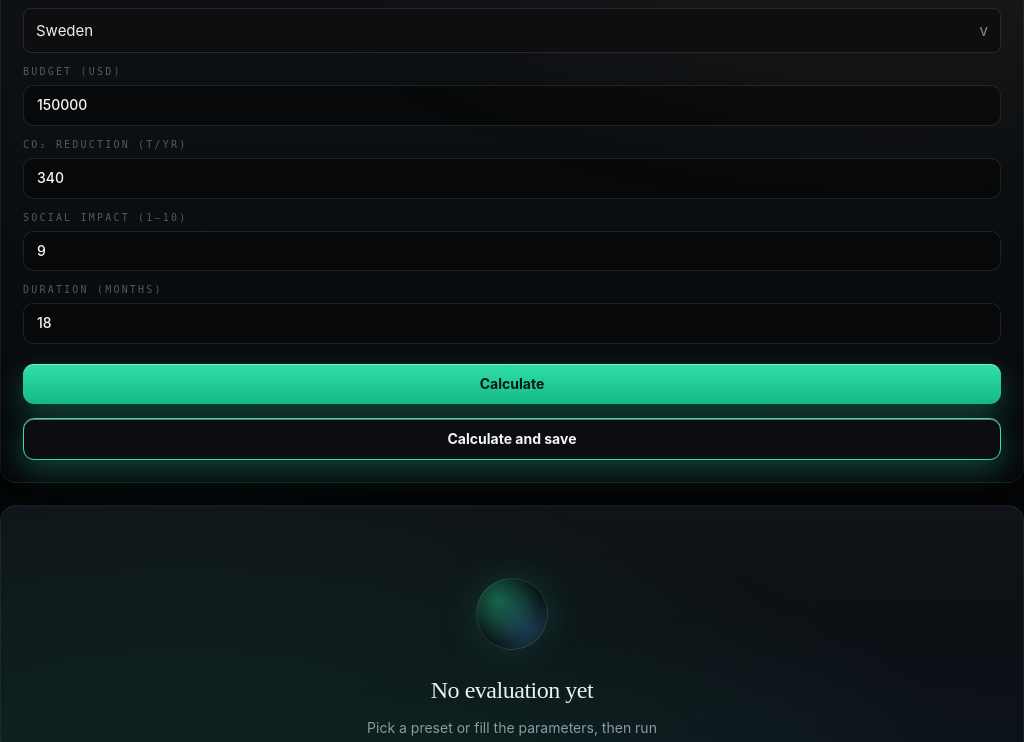
Test: a save that is not confirmed is not shown as one › a 200, even saying saved
(page scrolled)
Step 1. Click the button "Calculate and save" → click(512, 439), box [23,418,1001,460]
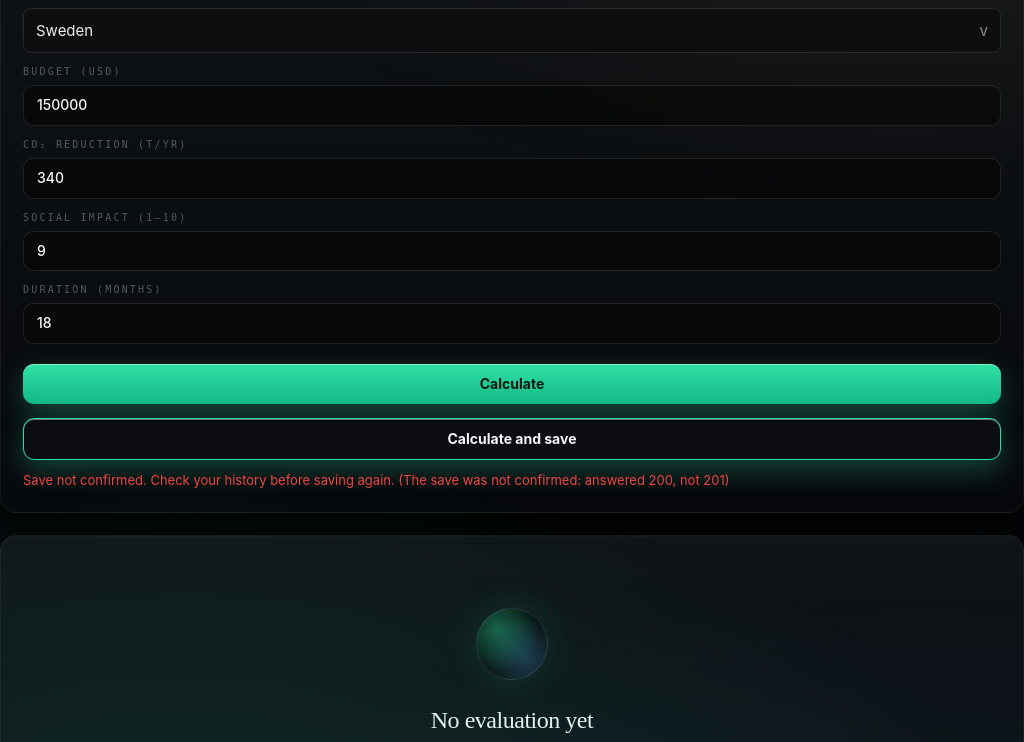
Check: the heading "No evaluation yet" is shown, box [431,707,593,733]
Check: the message shows "Save not confirmed. Check your history", box [23,472,730,488]
